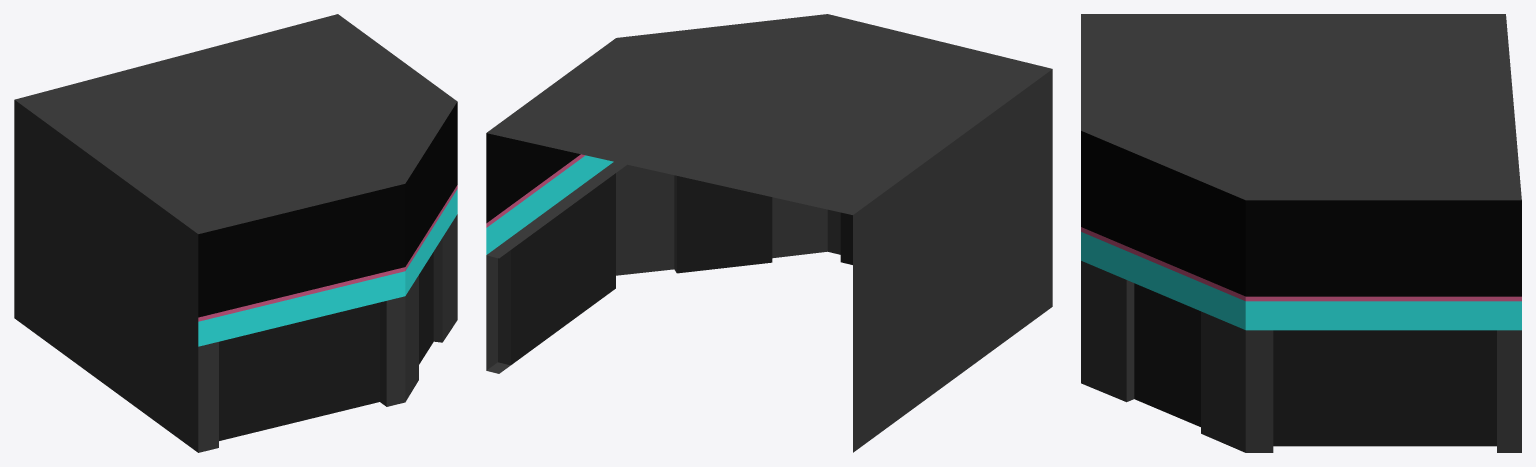
Rendered from Edificio-1.fbx.
3 renders of one model, left to right at view 1: azimuth 30°, elevation 25°; view 2: azimuth 150°, elevation 25°; view 3: azimuth 270°, elevation 25°, orthographic. The views are drawn at different scales.
Visible parts, largest first — view 1: Plane; view 2: Plane; view 3: Plane.
Part boxes in pixels (box(x1,y1,x2,y2)): Plane: box(14, 14, 457, 452); Plane: box(486, 14, 1052, 452); Plane: box(1081, 14, 1521, 452).
Bounding box in the file's own units: 830 × 525 × 830.
